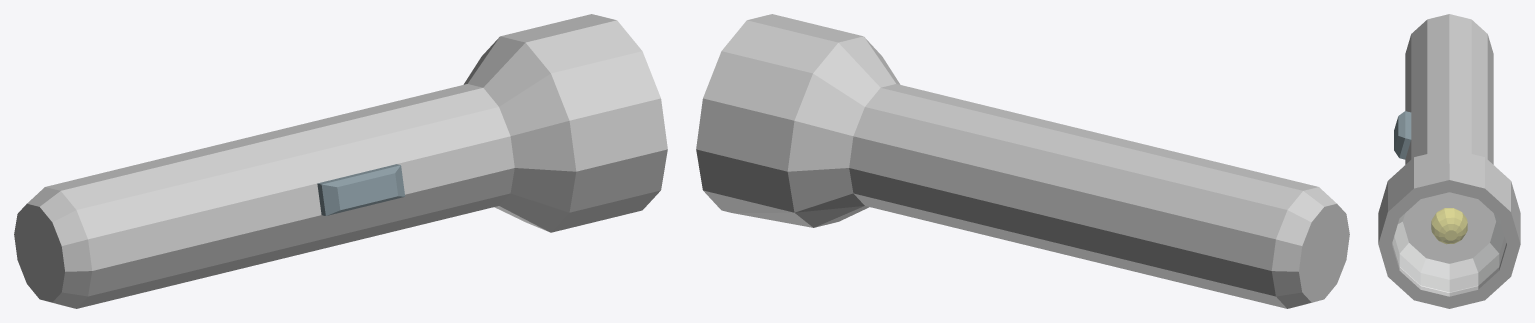
File: flashlight.glb
3 views of the same model, side by side, from view 1: azimuth 30°, elevation 25°; view 2: azimuth 150°, elevation 25°; view 3: azimuth 270°, elevation 25° (orthographic). The views are drawn at different scales.
Visible parts, largest first — view 1: model.001; view 2: model.001; view 3: model.001.
Boxes of the visible parts, bbox=[...] form: model.001: bbox=[14, 14, 667, 308]; model.001: bbox=[696, 14, 1349, 308]; model.001: bbox=[1378, 14, 1520, 308].
Bounding box in the file's own units: 1.64 × 0.4993 × 0.4993.
